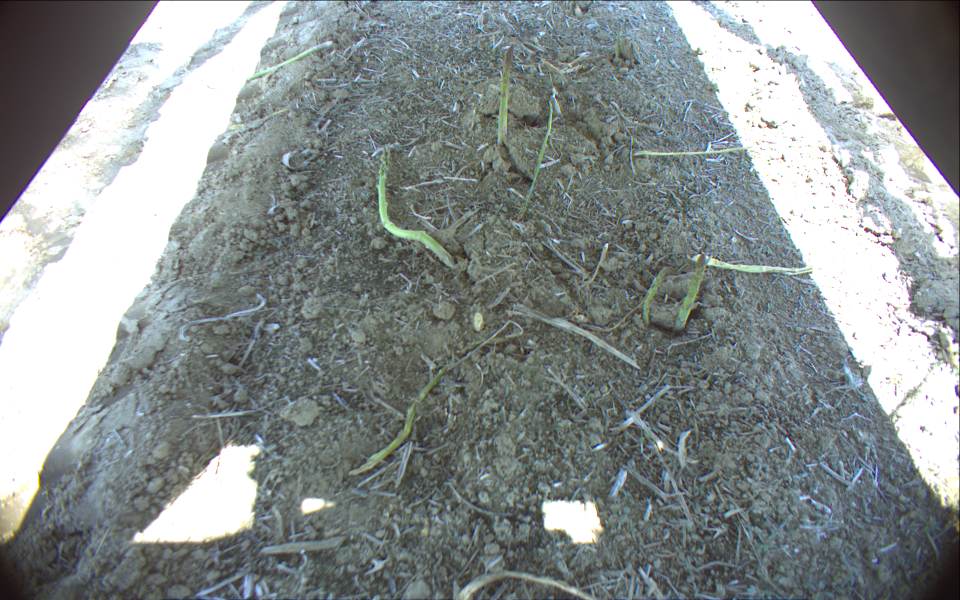aspa: (349, 337, 511, 476), (376, 145, 454, 264), (239, 40, 332, 82), (524, 97, 555, 213), (687, 255, 821, 274), (675, 253, 705, 332), (497, 43, 517, 147), (642, 265, 670, 326), (637, 142, 755, 156)
